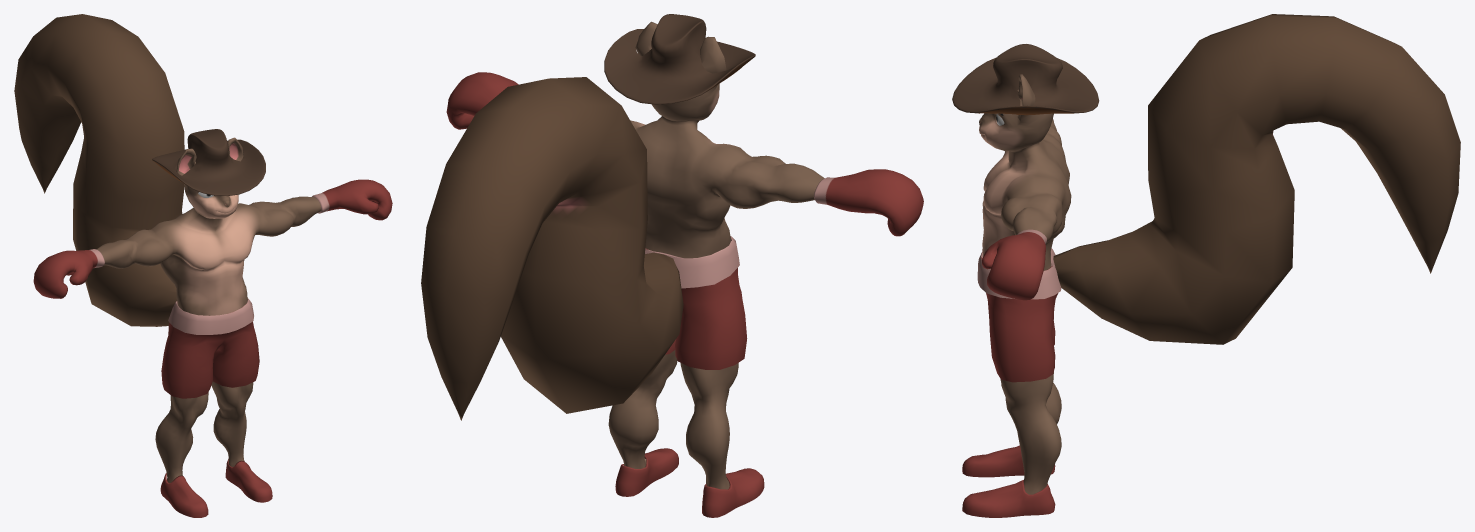
File: Pinut.glb
3 renders of one model, left to right at view 1: azimuth 30°, elevation 25°; view 2: azimuth 150°, elevation 25°; view 3: azimuth 270°, elevation 25°, orthographic. The views are drawn at different scales.
Parts seen in each view (by area): view 1: PINUT; view 2: PINUT; view 3: PINUT.
Boxes of the visible parts, <box> form: PINUT: <box>14,14,392,517</box>; PINUT: <box>421,14,923,517</box>; PINUT: <box>952,14,1460,517</box>.
Size of the model in its own units: 2.28 by 2.41 by 2.34.
1 material, 1 textured.
